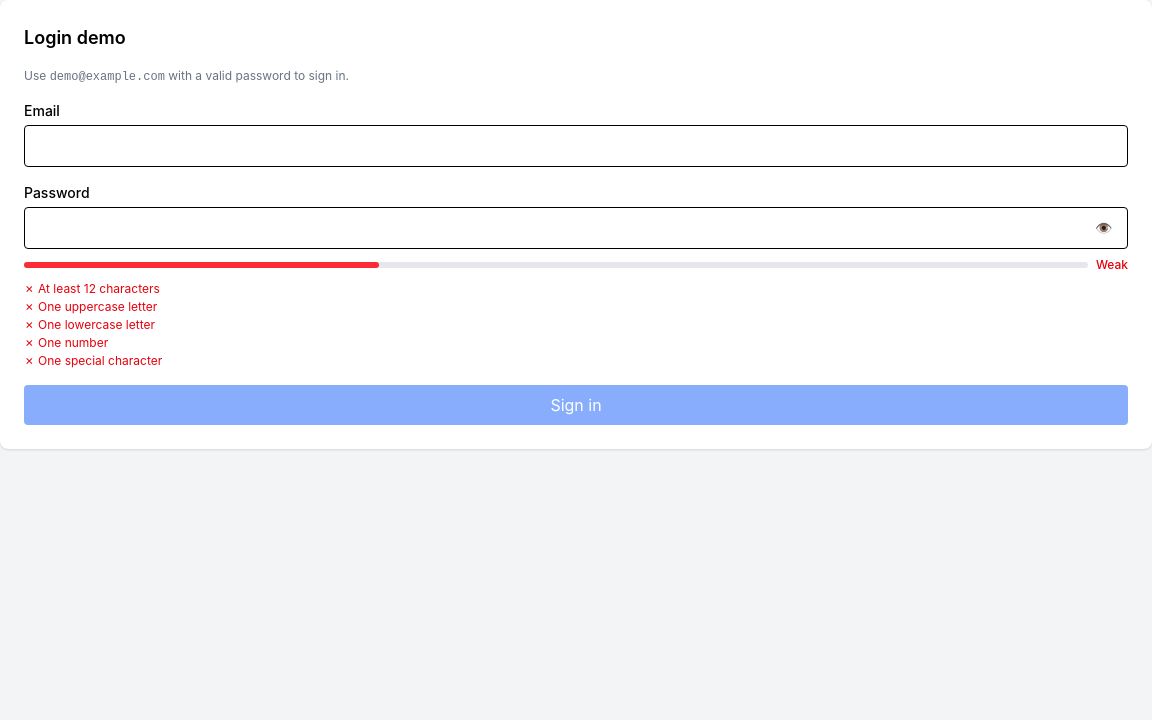
Test: LoginDemo › shows a success message for the demo account
Type "demo@example.com" into the field labelled "Email" at coordinates (576, 146), box x1=24 y1=125 x2=1128 y2=167
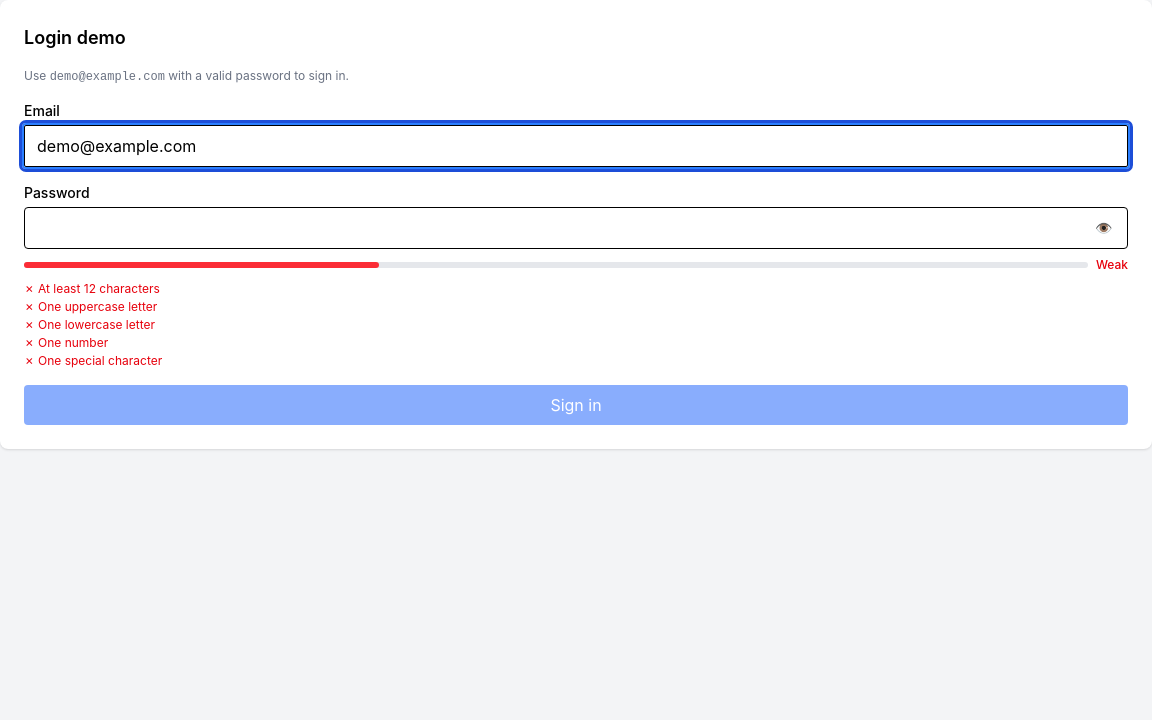
Type "Str0ng!Pass12" into the password field named "Password" at coordinates (576, 228), box x1=24 y1=207 x2=1128 y2=249
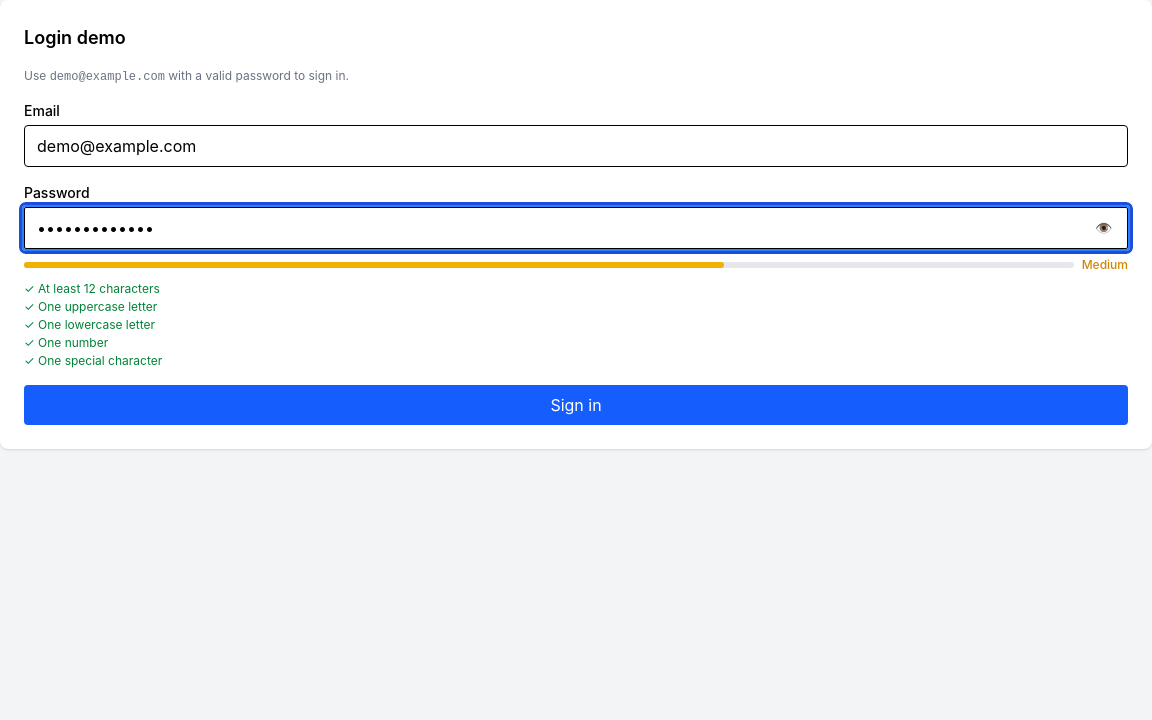
Click the button "Sign in" at coordinates (576, 405), box x1=24 y1=385 x2=1128 y2=425
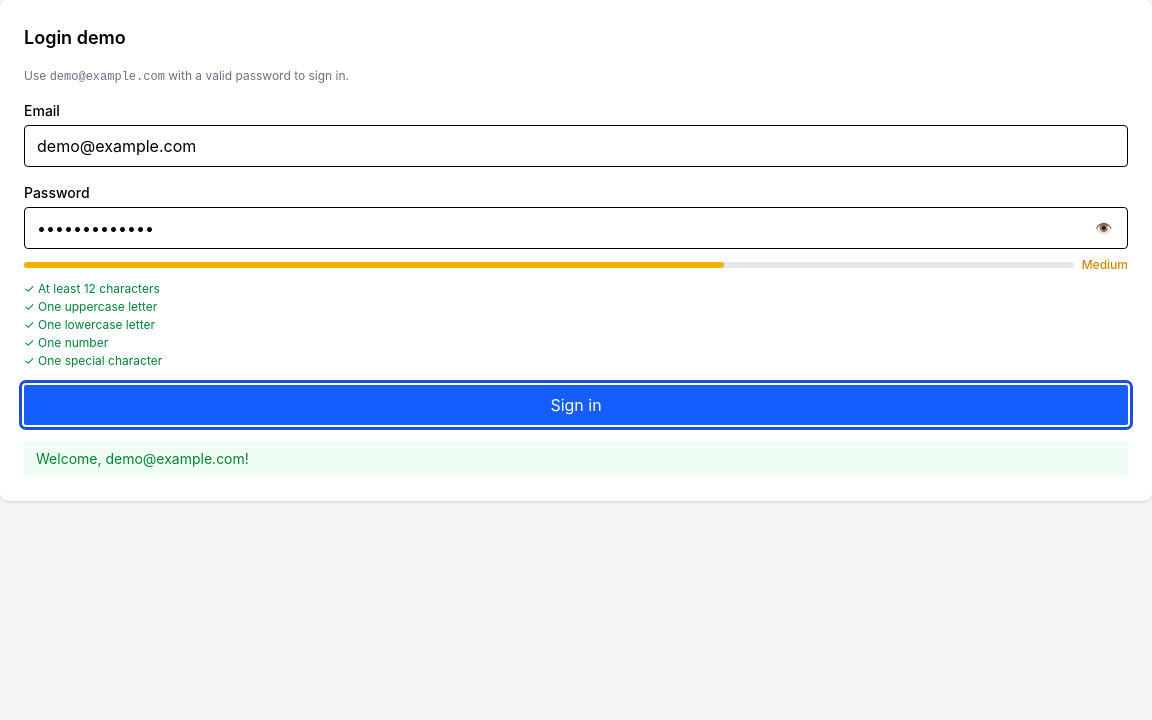
Result: the message shows "Welcome" at x1=36 y1=450 x2=105 y2=467
Result: the message shows "demo@example.com" at x1=105 y1=450 x2=245 y2=467
